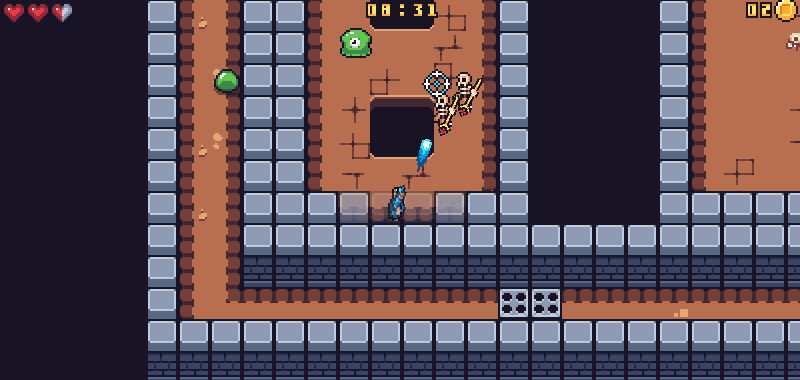enemy_skeleton: (430, 90, 462, 139), (453, 71, 482, 120)
enemy_slug: (212, 67, 242, 96)
enemy_slug_big: (339, 26, 374, 61)
trap_off: (499, 286, 563, 321)
